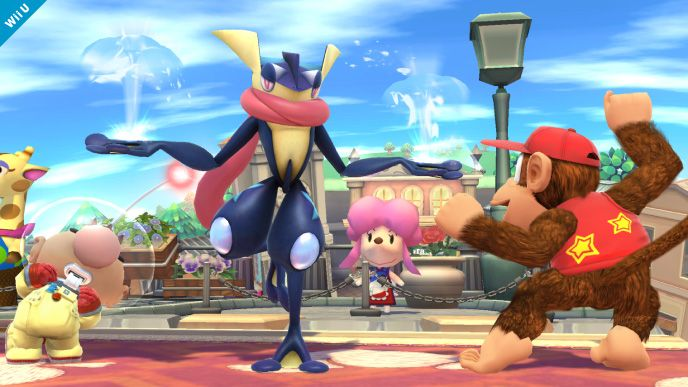greninja: (85, 28, 460, 375)
